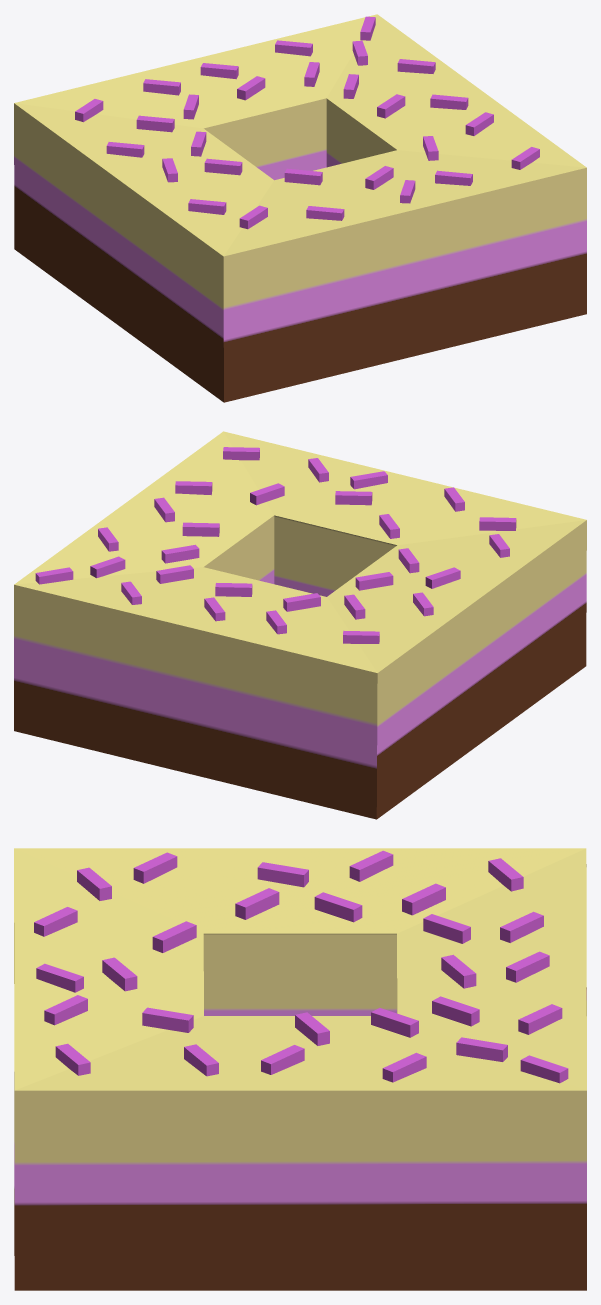
File: StrawberryCreamDonut.fbx
3 views of the same model, one above another, from view 1: azimuth 30°, elevation 25°; view 2: azimuth 150°, elevation 25°; view 3: azimuth 270°, elevation 25° (orthographic). The views are drawn at different scales.
Parts seen in each view (by area): view 1: Cube.010; view 2: Cube.010; view 3: Cube.010.
Part boxes in pixels (x1,y1,x2,y2): Cube.010: [14, 14, 586, 402]; Cube.010: [14, 431, 586, 819]; Cube.010: [14, 848, 586, 1290].
Size of the model in its own units: 386 by 156 by 385.
1 material, 1 textured.
